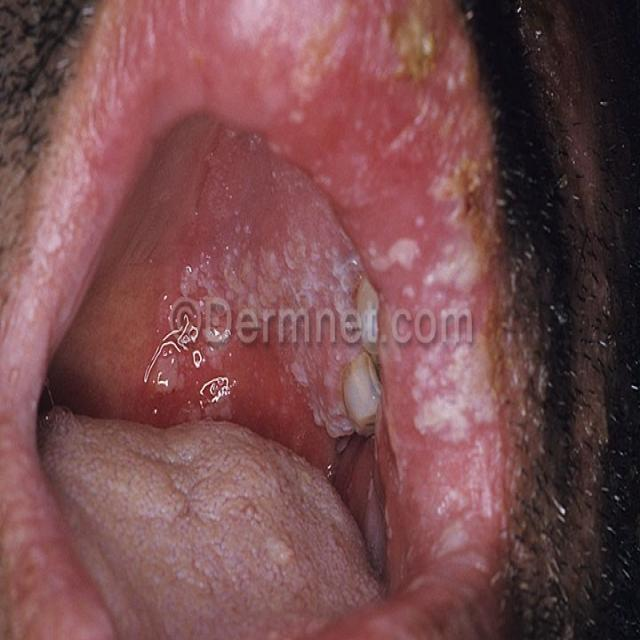Shingles: (370, 0, 504, 547), (178, 186, 358, 434)
